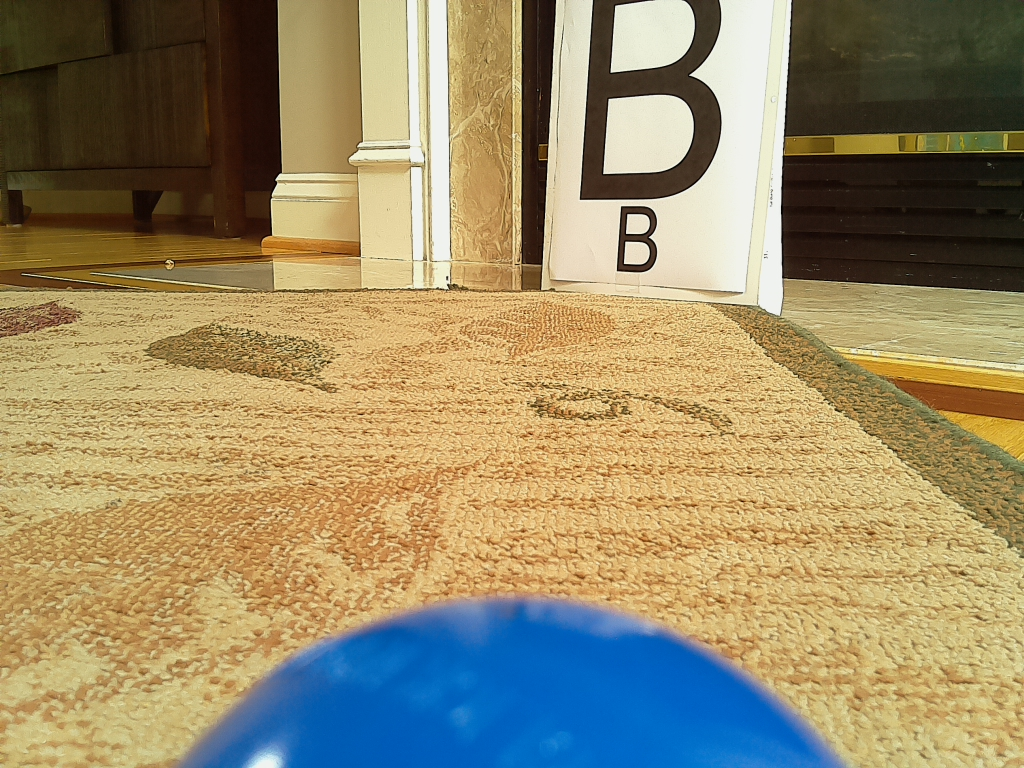letter: (593, 1, 722, 201)
